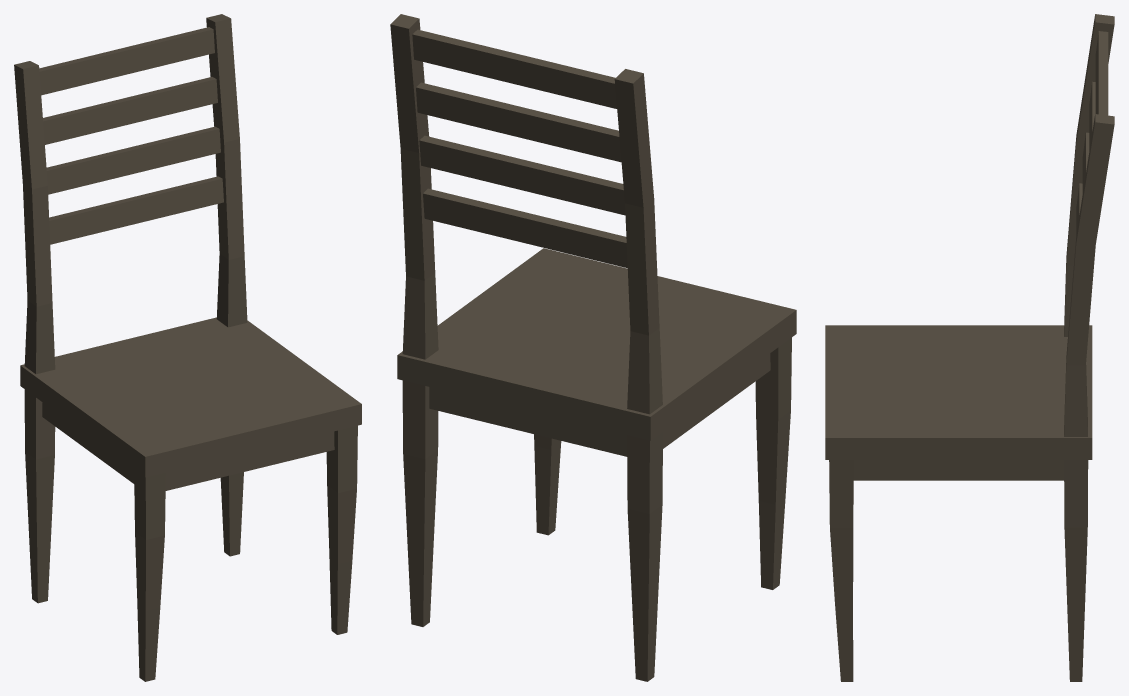
The model's file is chair-1.glb.
3 views of the same model, side by side, from view 1: azimuth 30°, elevation 25°; view 2: azimuth 150°, elevation 25°; view 3: azimuth 270°, elevation 25° (orthographic). The views are drawn at different scales.
Visible parts, largest first — view 1: Chair_1; view 2: Chair_1; view 3: Chair_1.
Part boxes in pixels (x1,y1,x2,y2): Chair_1: [14, 14, 361, 681]; Chair_1: [390, 14, 796, 681]; Chair_1: [825, 14, 1114, 681].
Size of the model in its own units: 0.7616 by 1.77 by 0.8255.
